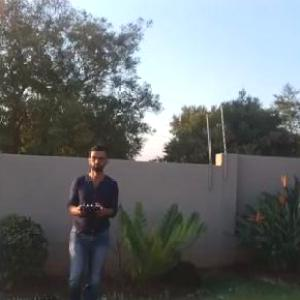follow: (59, 129, 122, 299)
